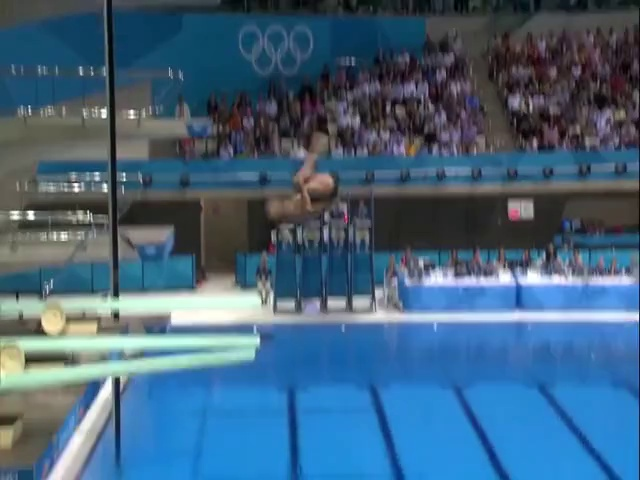diver: (265, 132, 338, 227)
